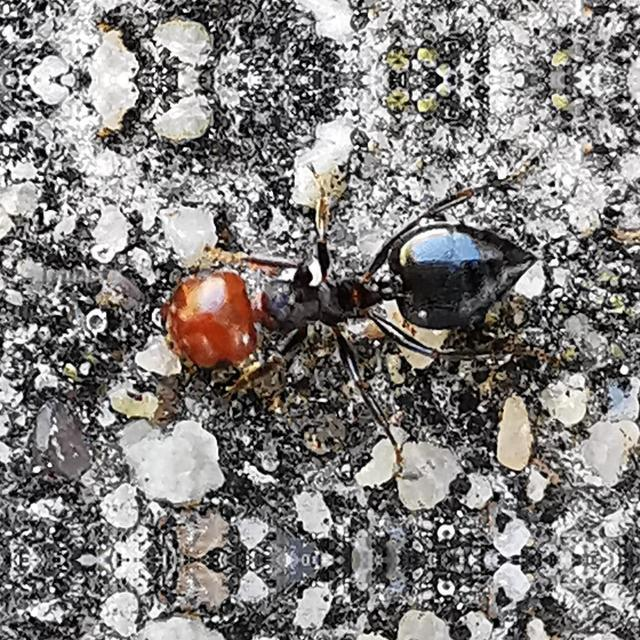Crematogaster: (151, 218, 561, 390)
